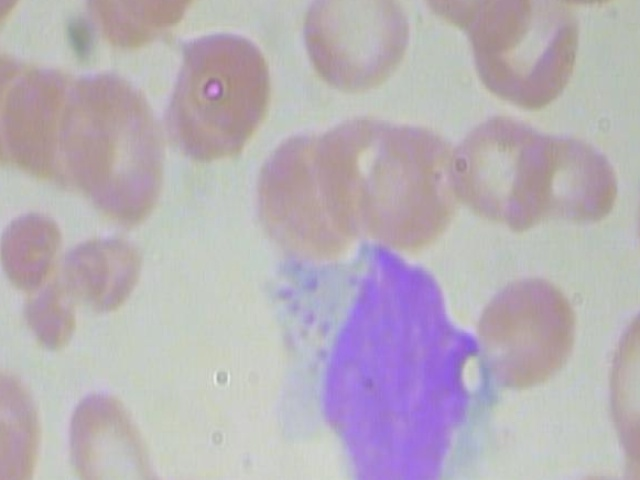RBC: (152, 16, 276, 183), (72, 63, 173, 223), (459, 0, 585, 121), (468, 268, 588, 389), (54, 373, 178, 480), (448, 114, 553, 230), (511, 123, 618, 228), (294, 0, 414, 91), (599, 296, 640, 466), (533, 464, 640, 480), (134, 474, 254, 480)
WBC: (252, 239, 515, 480)
